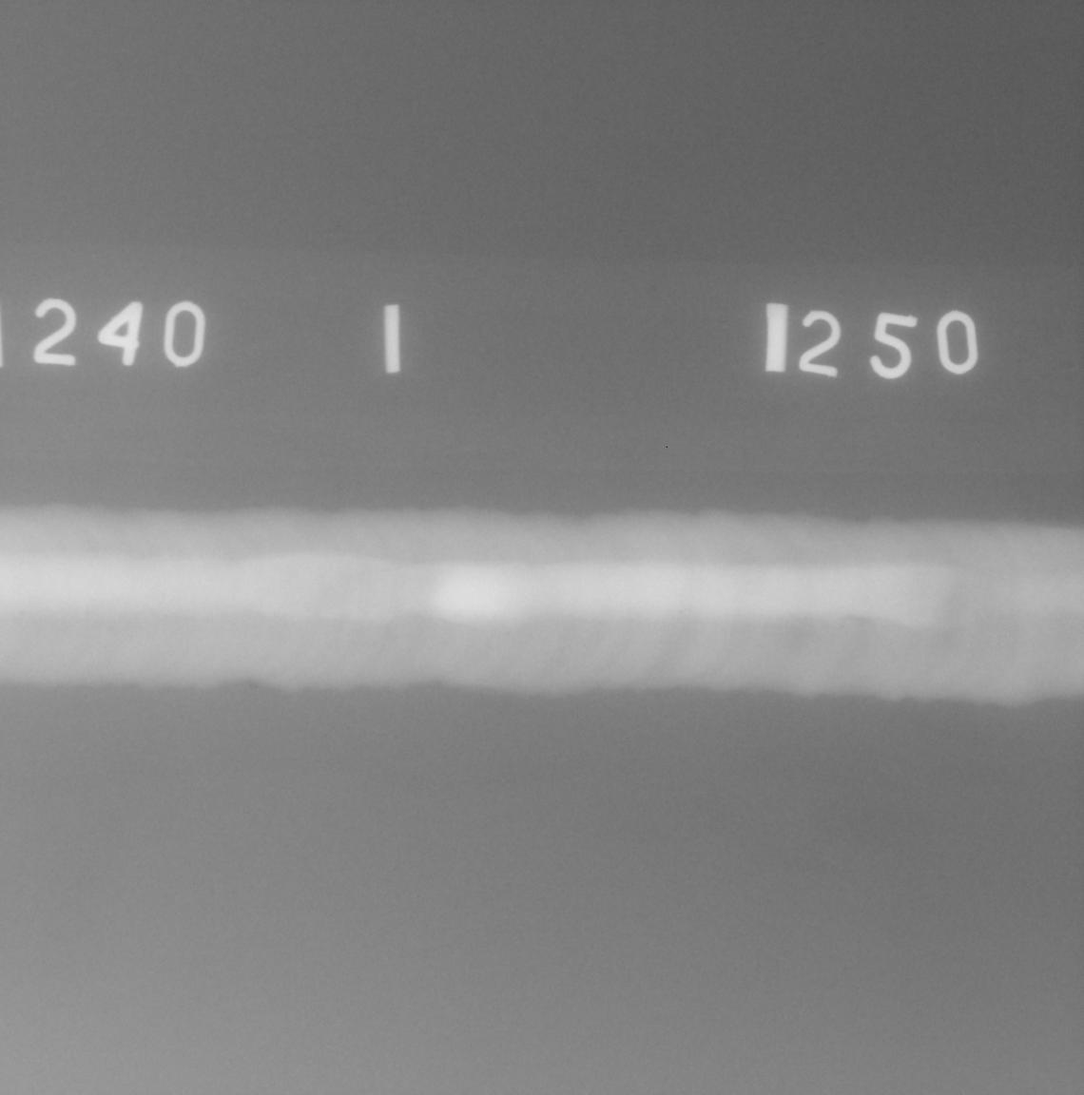Pore/Porosity: (86, 610, 92, 616), (20, 610, 27, 615), (793, 557, 798, 561), (679, 610, 684, 614), (507, 631, 510, 635)
